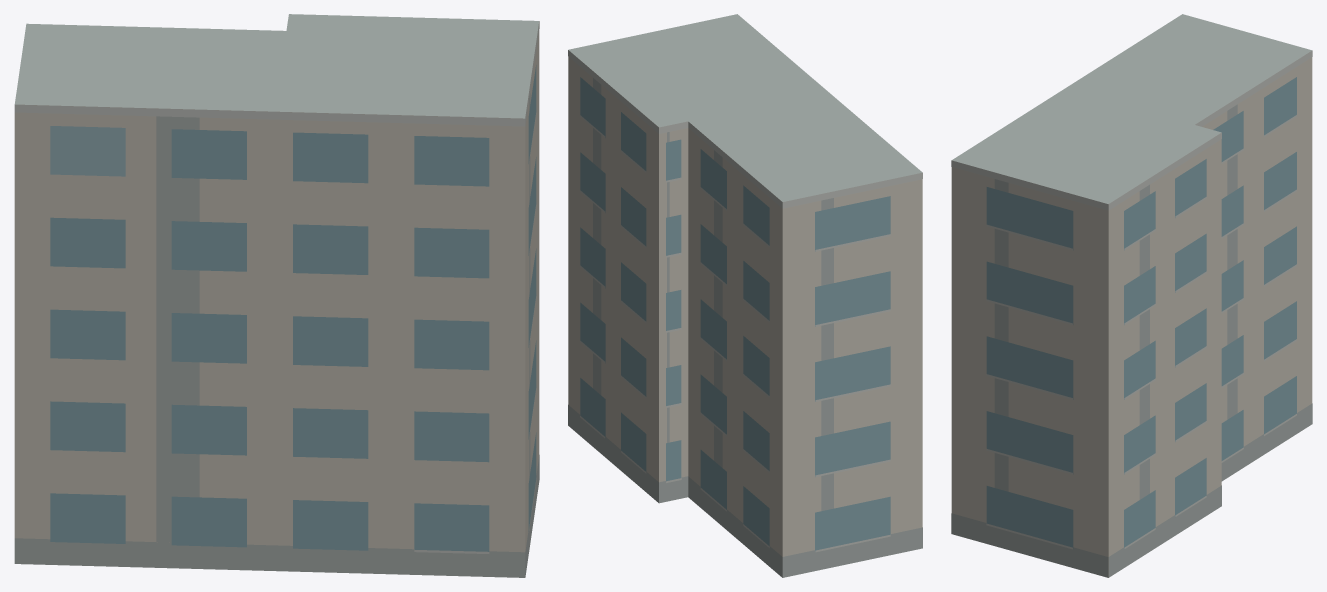
File: survey-upis-32764433.glb
The picture shows the model from 3 angles, left to right: view 1: azimuth 30°, elevation 25°; view 2: azimuth 150°, elevation 25°; view 3: azimuth 270°, elevation 25°; orthographic projection. The views are drawn at different scales.
Visible parts, largest first — view 1: survey-upis-32764433.tmp; view 2: survey-upis-32764433.tmp; view 3: survey-upis-32764433.tmp.
Part boxes in pixels (left/top/right/bottom): survey-upis-32764433.tmp: left=14, top=14, right=539, bottom=577; survey-upis-32764433.tmp: left=568, top=14, right=922, bottom=577; survey-upis-32764433.tmp: left=951, top=14, right=1312, bottom=577.
Bounding box in the file's own units: 15.29 × 14 × 12.26.
